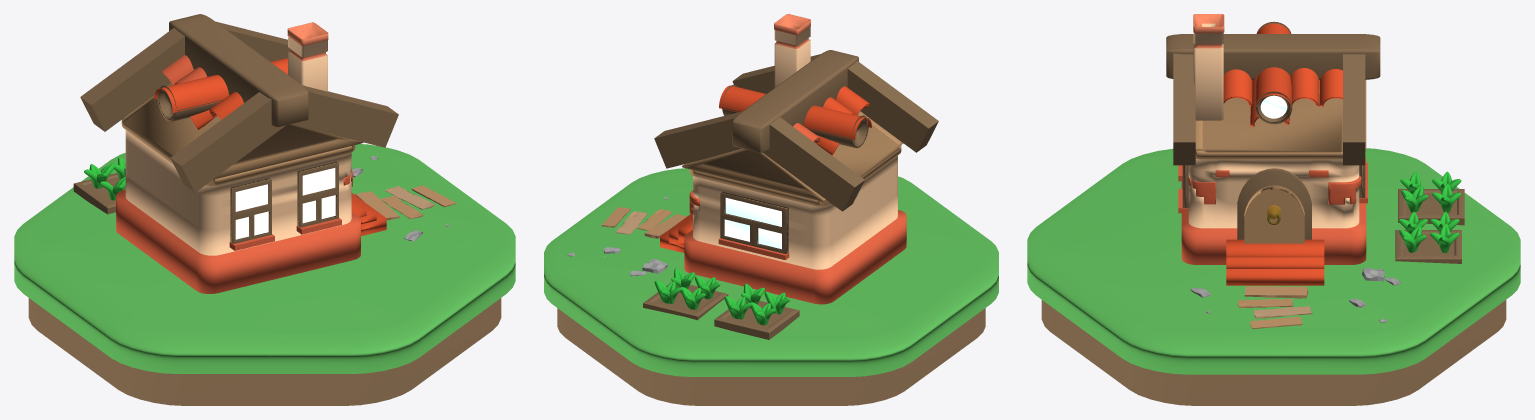
Rendered from villa.glb.
3 views of the same model, side by side, from view 1: azimuth 30°, elevation 25°; view 2: azimuth 150°, elevation 25°; view 3: azimuth 270°, elevation 25° (orthographic). The views are drawn at different scales.
Visible parts, largest first — view 1: Cylinder.014, Cube, Roundcube, Plane, Cube.009, Cube.008, Cube.007, Cube.003, Cube.002, Cube.001, Cylinder.001, Cube.006 (+7 smaller); view 2: Cylinder.014, Cube, Roundcube, Plane, Cube.008, Cube.009, Cube.004, Cube.006, Cylinder.001, Cube.001, Cube.027, Cube.016 (+6 smaller); view 3: Cylinder.014, Cube, Plane, Roundcube, Cylinder.012, Cube.005, Cube.001, Cube.006, Cube.007, Cube.016, Cube.027, Cylinder.001 (+8 smaller).
Part boxes in pixels (left/top/right/bottom): Cylinder.014: left=14, top=144, right=515, bottom=405; Cube: left=116, top=119, right=360, bottom=293; Roundcube: left=169, top=14, right=308, bottom=127; Plane: left=123, top=83, right=363, bottom=179; Cube.009: left=170, top=92, right=285, bottom=192; Cube.008: left=80, top=28, right=184, bottom=131; Cube.007: left=291, top=85, right=398, bottom=147; Cube.003: left=297, top=161, right=338, bottom=227; Cube.002: left=230, top=177, right=271, bottom=243; Cube.001: left=287, top=22, right=328, bottom=91; Cylinder.001: left=154, top=58, right=287, bottom=112; Cube.006: left=215, top=21, right=290, bottom=61; Cylinder.014: left=544, top=168, right=998, bottom=405; Cube: left=684, top=145, right=906, bottom=304; Roundcube: left=732, top=50, right=858, bottom=152; Plane: left=682, top=111, right=903, bottom=201; Cube.008: left=763, top=117, right=864, bottom=211; Cube.009: left=847, top=61, right=938, bottom=152; Cube.004: left=720, top=191, right=788, bottom=253; Cube.006: left=654, top=111, right=743, bottom=168; Cylinder.001: left=719, top=85, right=871, bottom=140; Cube.001: left=774, top=14, right=810, bottom=87; Cube.027: left=714, top=300, right=799, bottom=339; Cube.016: left=643, top=281, right=728, bottom=320; Cylinder.014: left=1027, top=148, right=1520, bottom=405; Cube: left=1181, top=150, right=1366, bottom=264; Plane: left=1195, top=80, right=1366, bottom=152; Roundcube: left=1166, top=34, right=1380, bottom=79; Cylinder.012: left=1237, top=168, right=1311, bottom=243; Cube.005: left=1226, top=239, right=1324, bottom=285; Cube.001: left=1193, top=14, right=1224, bottom=120; Cube.006: left=1343, top=54, right=1365, bottom=165; Cube.007: left=1173, top=53, right=1195, bottom=165; Cube.016: left=1395, top=230, right=1461, bottom=263; Cube.027: left=1398, top=189, right=1464, bottom=225; Cylinder.001: left=1255, top=21, right=1292, bottom=110.
Size of the model in its own units: 5.26 by 3.88 by 5.77.
